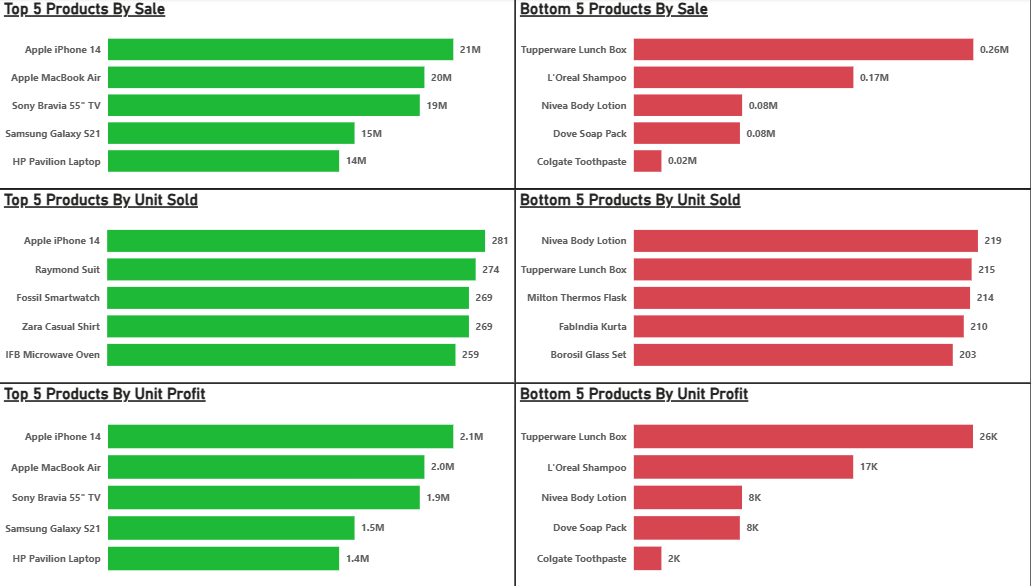

This screenshot's page, from the dashboard's own definition file:
{"tool":"powerbi","page":{"name":"Top/Bottom 5 Analysis","canvas":[1280,720],"ordinal":1},"visuals":[{"type":"barChart","title":"Top 5 Products By Sale","fields":{"Y":["Sum(Fact Table.Net Sale)"],"Category":["Dim Product.Product Name"]},"box":[9.6,0,630.4,232.6],"z":0},{"type":"barChart","title":"Bottom 5 Products By Sale","fields":{"Y":["Sum(Fact Table.Net Sale)"],"Category":["Dim Product.Product Name"]},"box":[640,0,630.4,232.6],"z":1000},{"type":"barChart","title":"Top 5 Products By Unit Sold","fields":{"Category":["Dim Product.Product Name"],"Y":["Sum(Fact Table.Units Sold)"]},"box":[9.6,232.6,630.4,236.7],"z":2000},{"type":"barChart","title":"Bottom 5 Products By Unit Sold","fields":{"Category":["Dim Product.Product Name"],"Y":["Sum(Fact Table.Units Sold)"]},"box":[640,232.6,630.4,236.7],"z":3000},{"type":"barChart","title":"Top 5 Products By Unit Profit","fields":{"Category":["Dim Product.Product Name"],"Y":["Sum(Fact Table.Profit)"]},"box":[9.6,469.3,630.4,250.5],"z":4000},{"type":"barChart","title":"Bottom 5 Products By Unit Profit","fields":{"Category":["Dim Product.Product Name"],"Y":["Sum(Fact Table.Profit)"]},"box":[640,470.3,629.9,250.3],"z":5000}]}

Visuals, with their boxes in screenshot pixels (x1, y1, x2, y2), scaled from the page's 1280x720 canvas onto the 1031x586 screenshot:
"Top 5 Products By Sale" barChart: l=8, t=0, r=516, b=189
"Bottom 5 Products By Sale" barChart: l=516, t=0, r=1023, b=189
"Top 5 Products By Unit Sold" barChart: l=8, t=189, r=516, b=382
"Bottom 5 Products By Unit Sold" barChart: l=516, t=189, r=1023, b=382
"Top 5 Products By Unit Profit" barChart: l=8, t=382, r=516, b=585
"Bottom 5 Products By Unit Profit" barChart: l=516, t=383, r=1023, b=585
